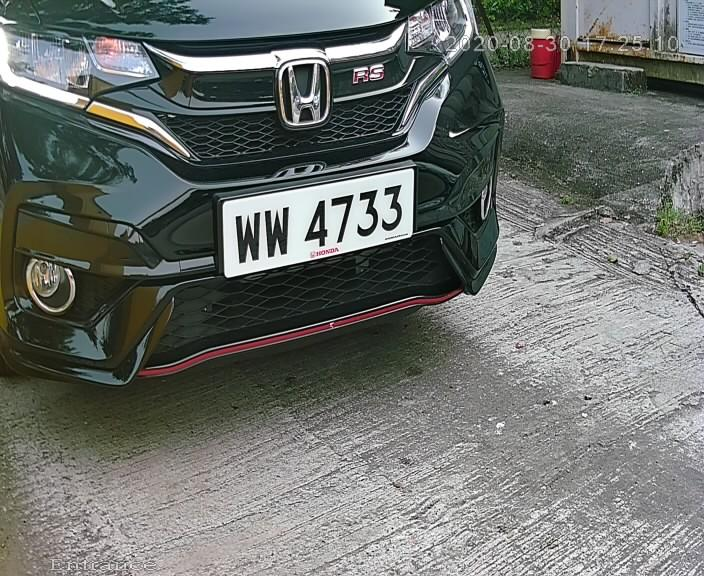License Plate: (214, 170, 419, 286)
